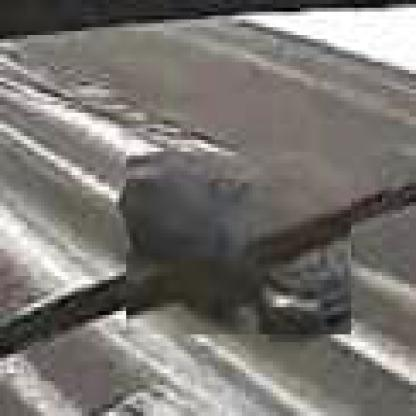car: (127, 153, 356, 339)
